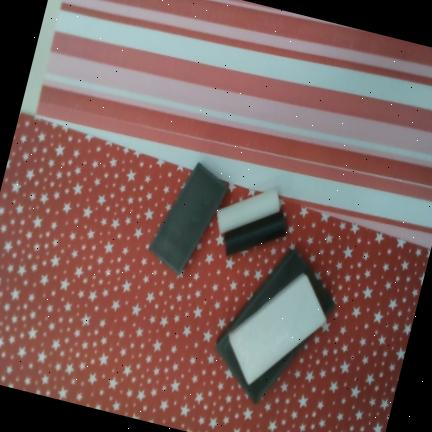Cilindro: (223, 211, 286, 256), (216, 188, 279, 233)
Paralelepipedo: (215, 250, 336, 405), (228, 273, 327, 386), (148, 162, 228, 275)
